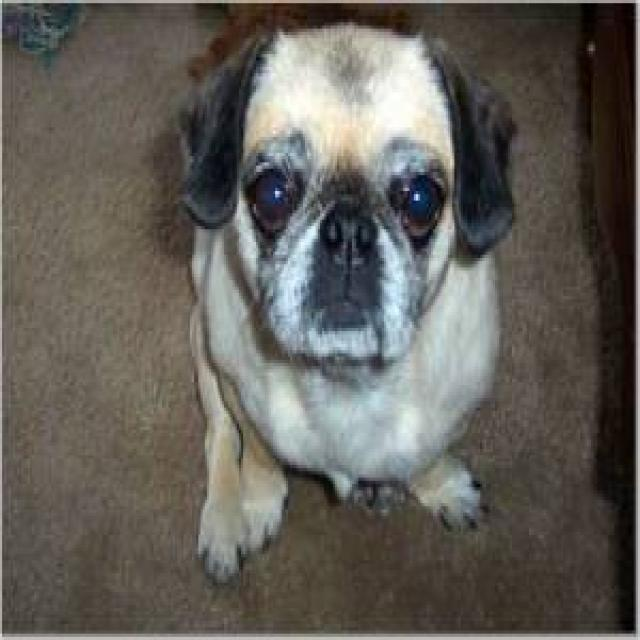dog-pug: (169, 10, 525, 583)
